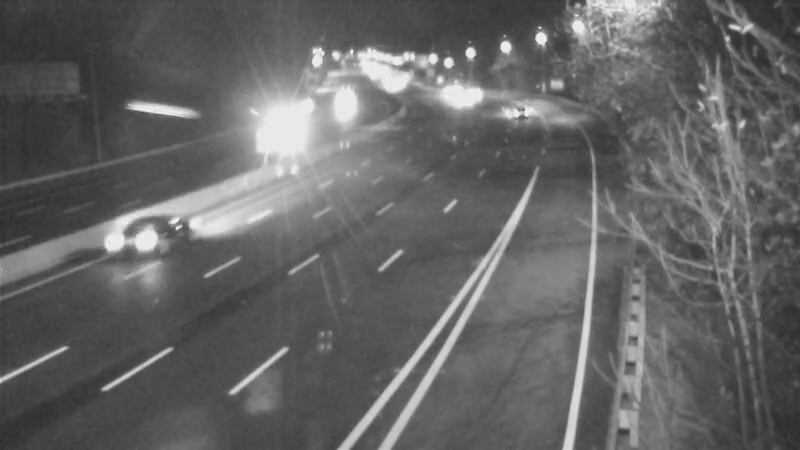vehicle: (92, 192, 172, 272), (422, 70, 472, 120), (448, 68, 498, 118), (431, 76, 481, 126), (498, 86, 548, 136), (250, 100, 300, 150), (312, 80, 362, 130)
